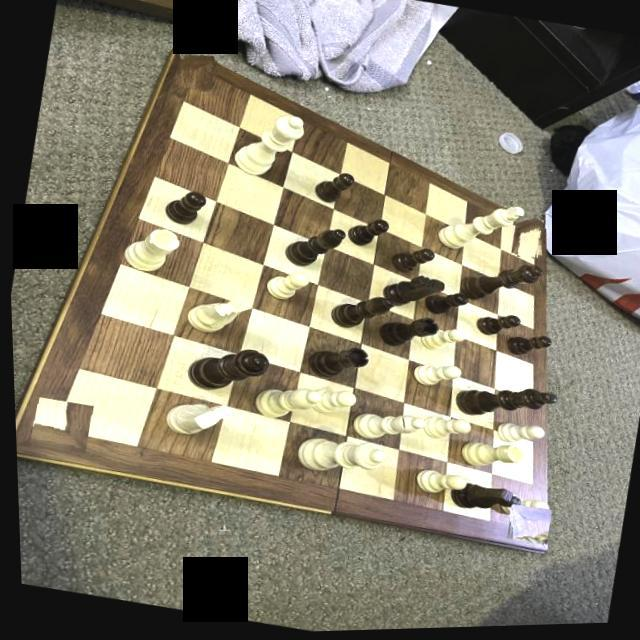chess-table-corners: (24, 396, 90, 456), (170, 49, 216, 94), (500, 506, 547, 549), (507, 218, 544, 264)
